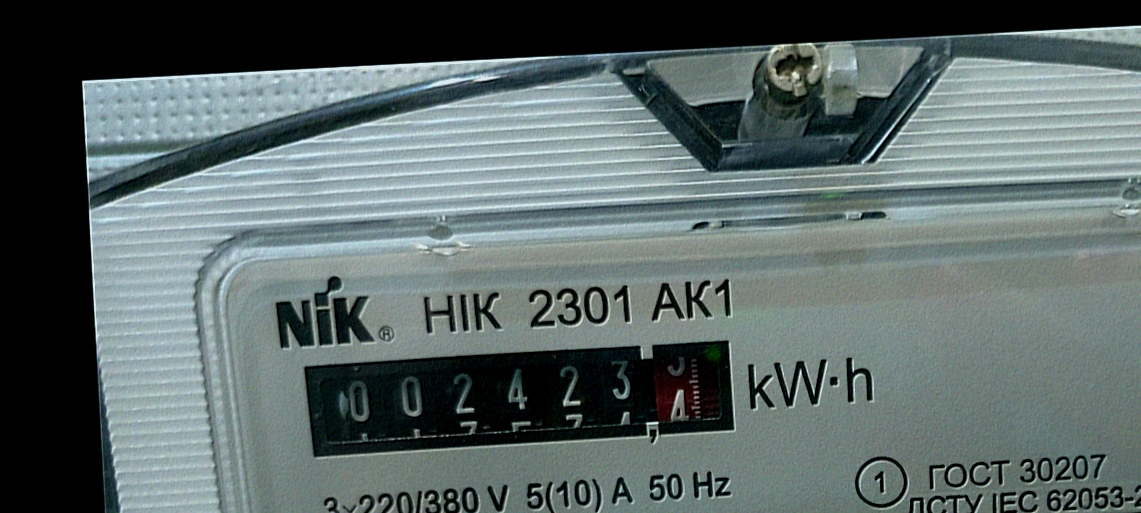0: (345, 376, 374, 426), (398, 374, 425, 420)
2: (450, 369, 478, 417), (557, 363, 583, 410)
3: (608, 357, 634, 403), (665, 354, 688, 378)
4: (504, 366, 529, 413), (665, 385, 692, 424)
screen: (293, 329, 748, 470)
